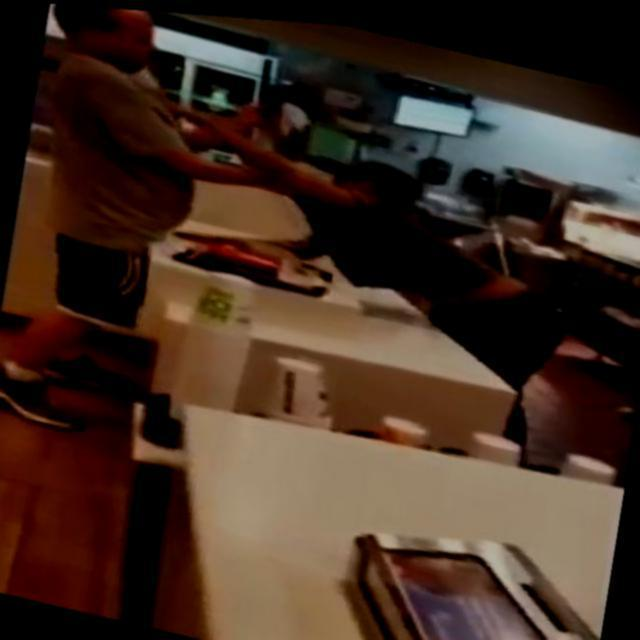fight: (0, 0, 590, 529)
